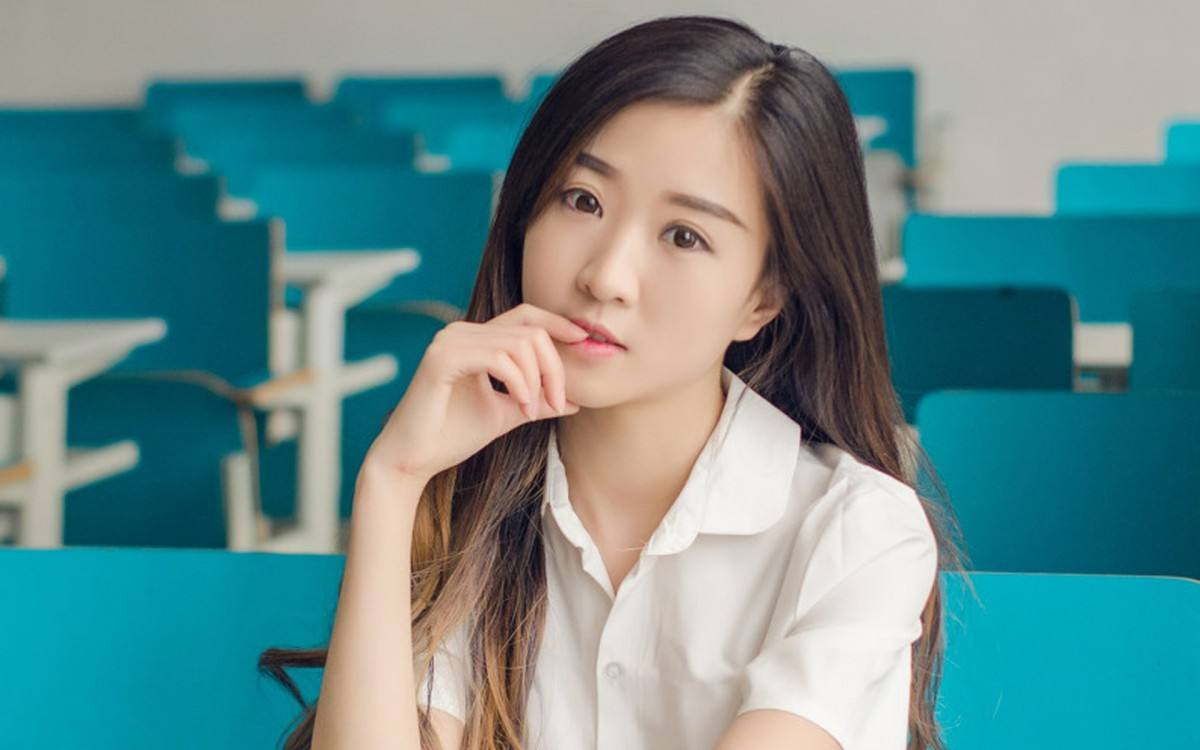person: (412, 20, 954, 715)
